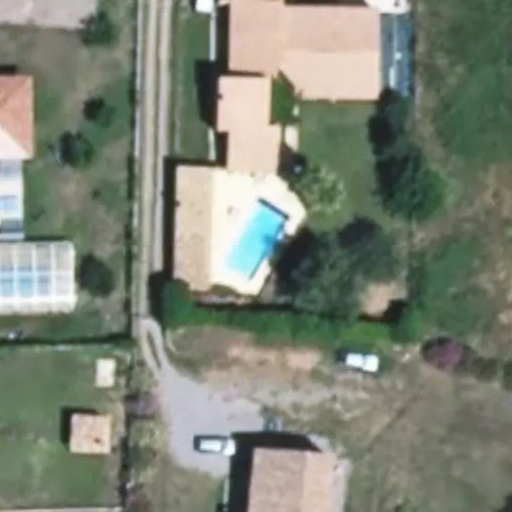pool: (224, 203, 287, 282)
